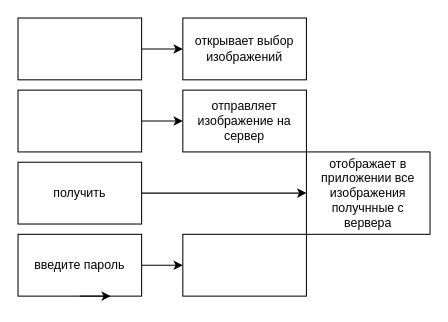
Some shapes in this 448 by 322 pixel diagram are drawn without their labels. Here are the shapes that lost their labels. From the top down, the centre of each, then its label:
At point (79, 48): "выбрать изображение для отправки".
At point (79, 120): "отправить".
At point (244, 264): "отправляет пароль на сервер для получения картинок".
